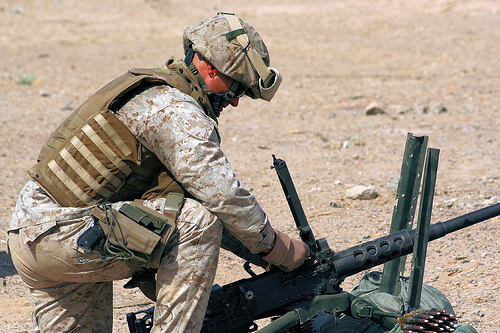rifle: (310, 204, 496, 298)
rifle in hand: (209, 195, 497, 318)
